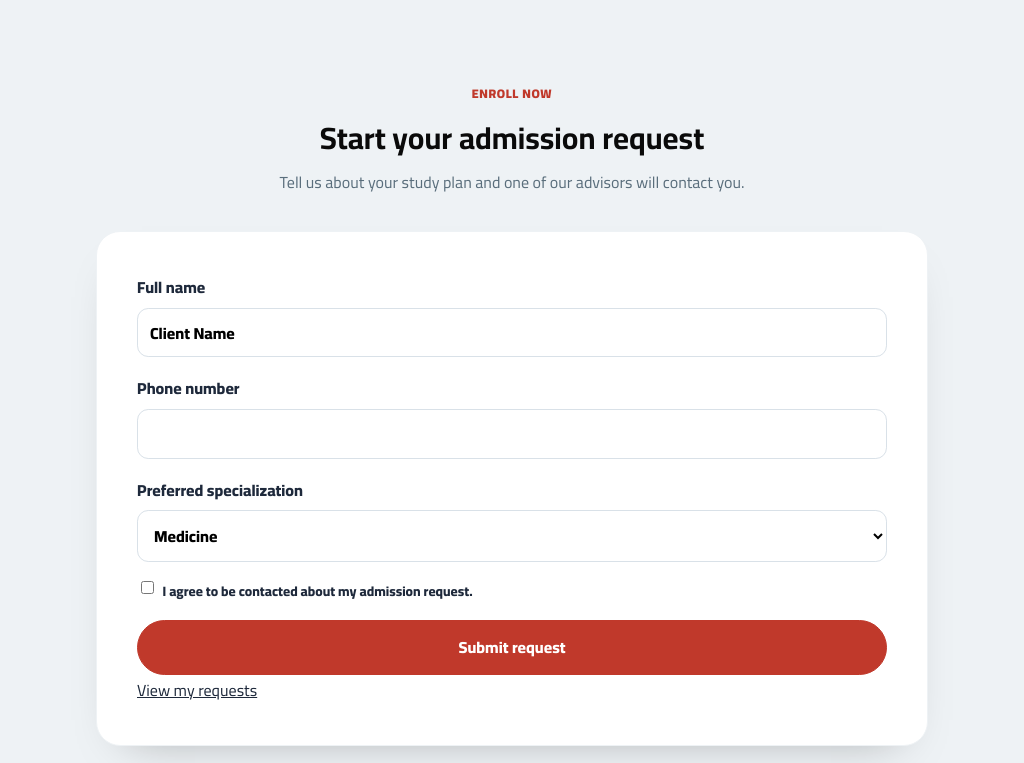
EnrollmentSection › requires enrollment consent before a verified client can submit
The width and height of the screenshot is (1024, 763).
expect the button "Submit request" is disabled: met, box [137,620,887,675]
Click the checkbox: [148, 587] box [141,581,154,594]
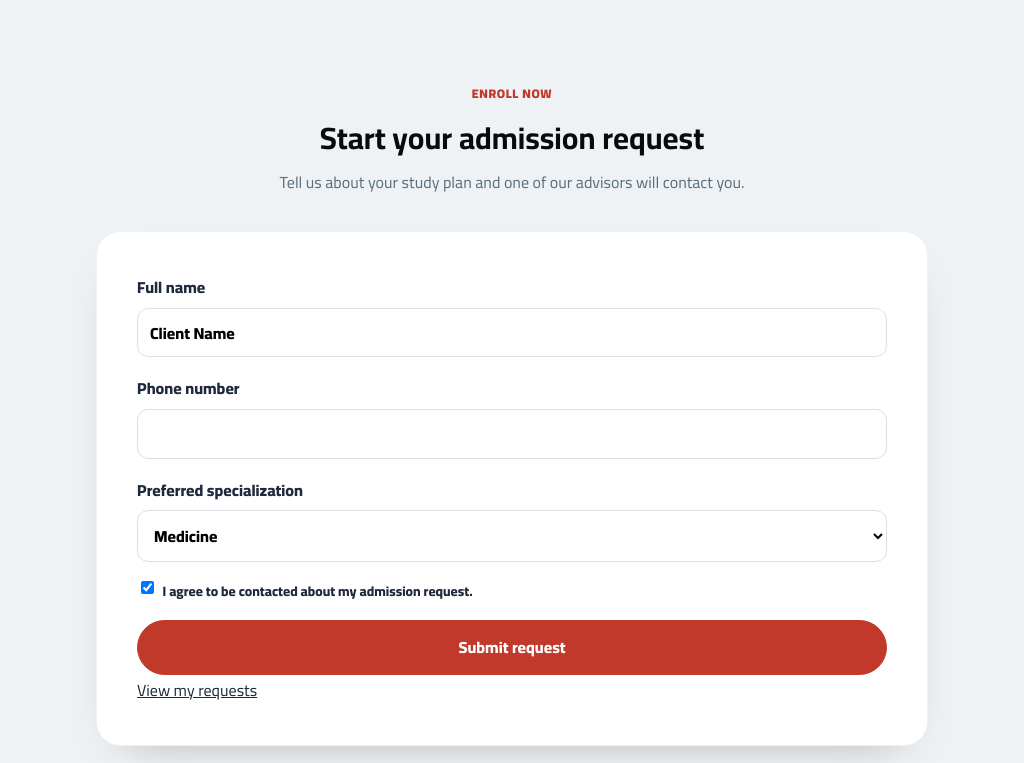
In the field labelled "Phone number": [512, 434] box [137,409,887,459], type "+905015959880"
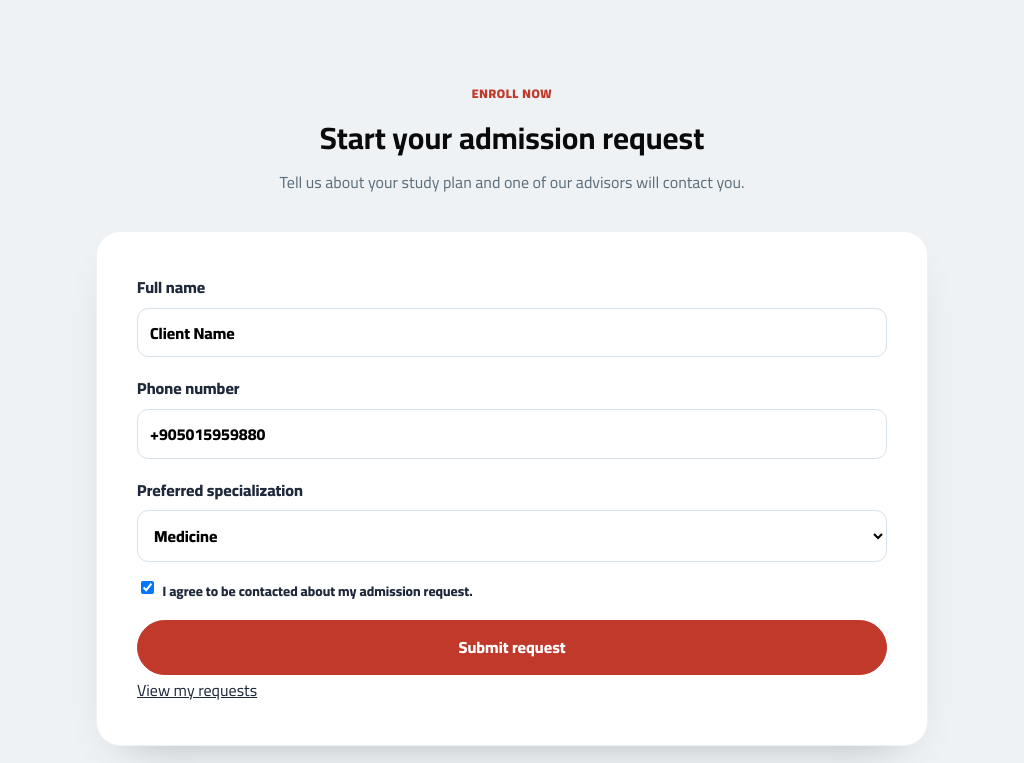
Click the button "Submit request": [512, 647] box [137,620,887,675]
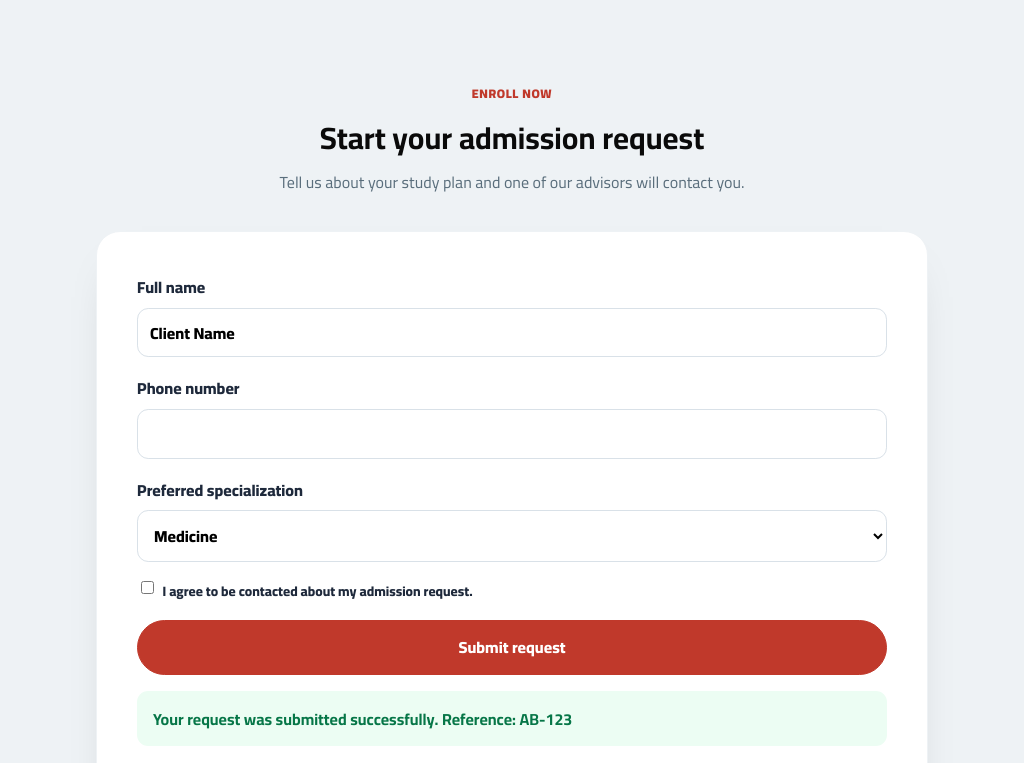
expect the message shows "AB-123": met, box [520,704,572,734]
